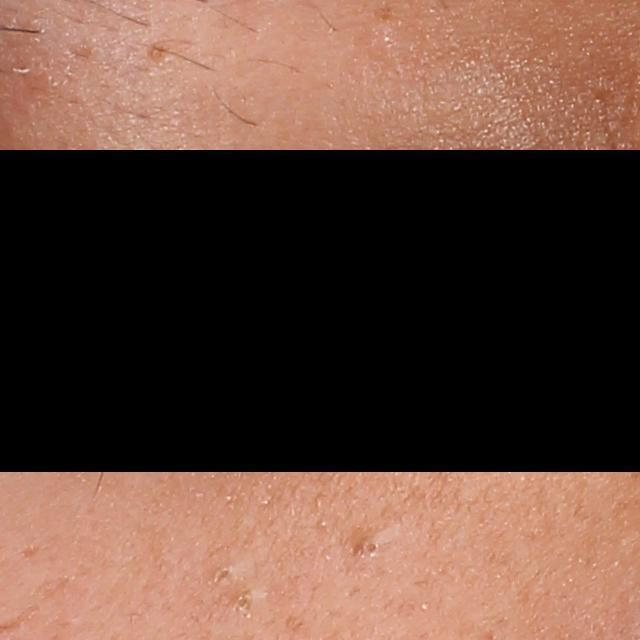comedo: (357, 527, 390, 567), (230, 594, 256, 616), (209, 565, 236, 584)
